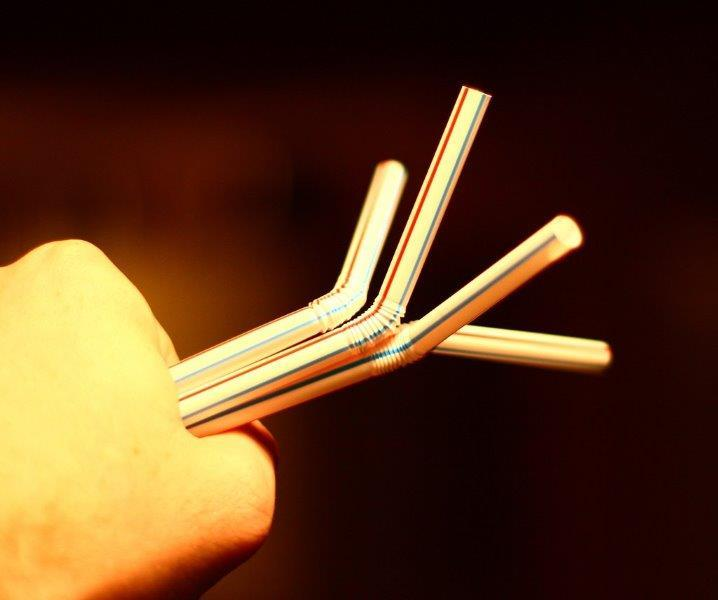plastic: (156, 85, 619, 444)
